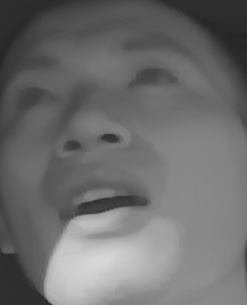eye: (125, 62, 185, 100), (13, 80, 65, 113)
mouth: (50, 168, 151, 238)
